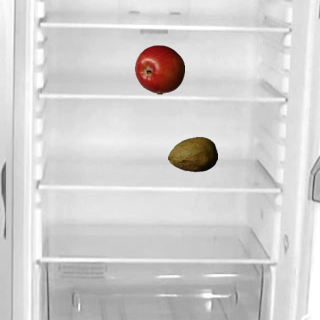Apple Braeburn: (134, 44, 184, 94)
Papaya: (167, 129, 217, 179)
